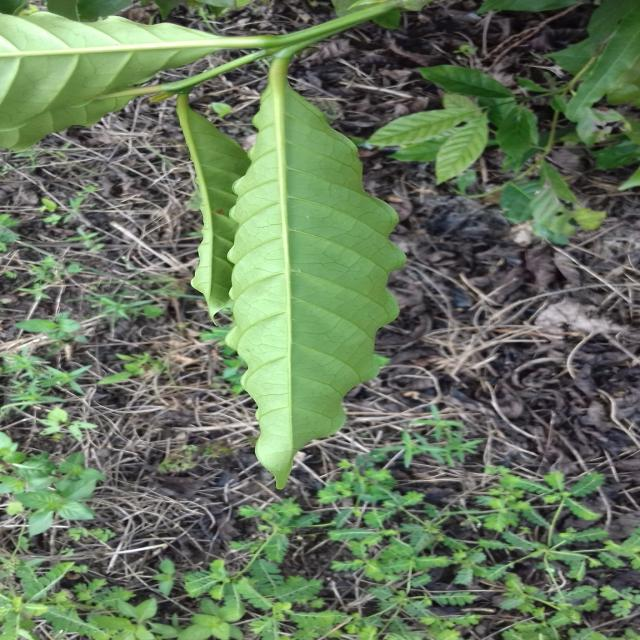Sanas: (175, 52, 407, 492)
